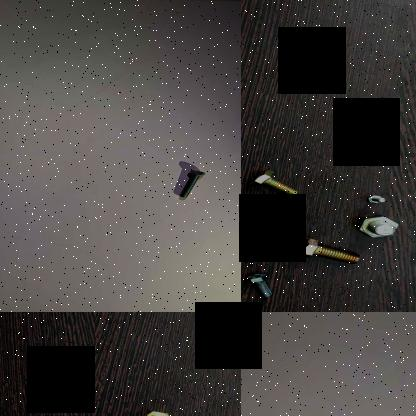Bolts: (285, 238, 366, 266), (247, 166, 300, 198), (354, 212, 399, 246), (170, 166, 212, 200), (242, 270, 282, 299), (360, 192, 388, 206), (137, 409, 177, 416)
